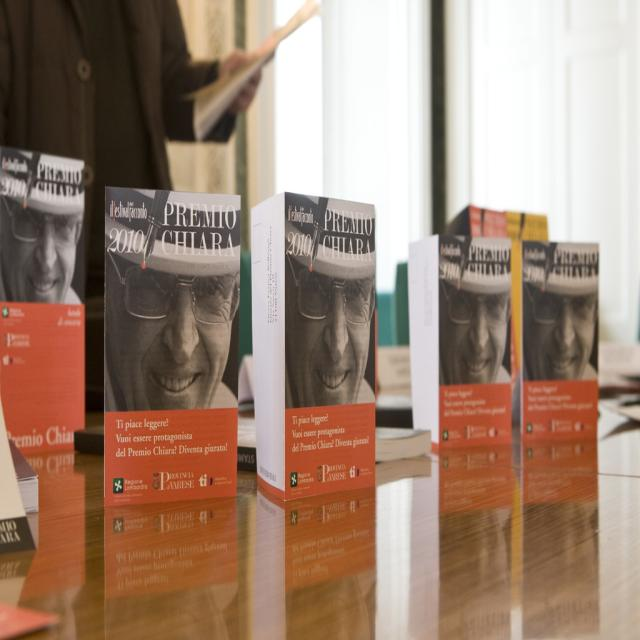Book: (104, 186, 241, 512), (252, 196, 377, 502), (406, 228, 514, 454), (2, 153, 86, 434), (522, 235, 602, 440)
